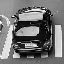mobil: (9, 6, 55, 53)
